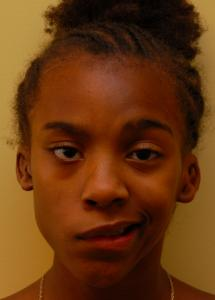strokeEyeMid: (39, 116, 174, 173)
strokeMouthMid: (68, 208, 152, 257)
